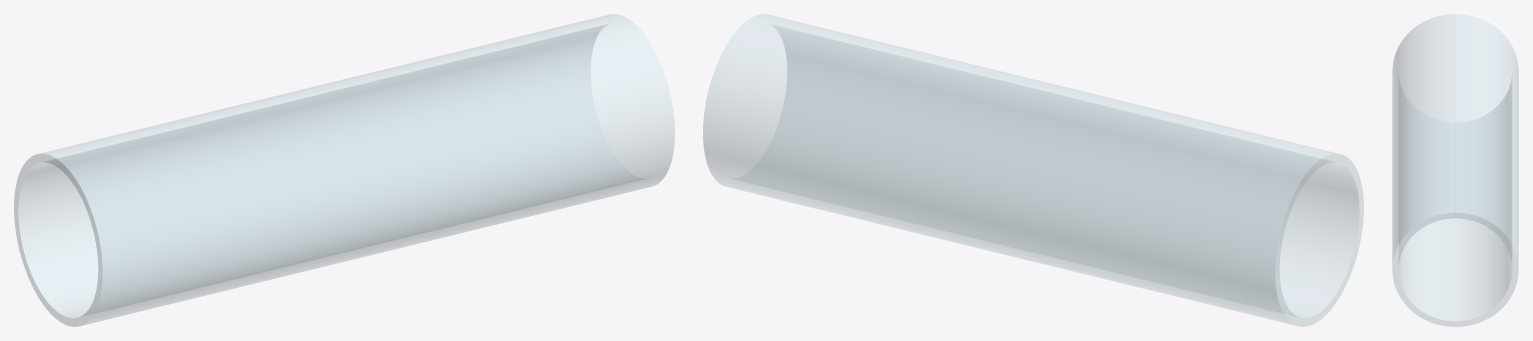
Rendered from tubo_p3.glb.
The picture shows the model from 3 angles, left to right: view 1: azimuth 30°, elevation 25°; view 2: azimuth 150°, elevation 25°; view 3: azimuth 270°, elevation 25°; orthographic projection. The views are drawn at different scales.
Parts seen in each view (by area): view 1: tubo_p3; view 2: tubo_p3; view 3: tubo_p3.
Boxes of the visible parts, bbox=[...] form: tubo_p3: bbox=[14, 14, 674, 326]; tubo_p3: bbox=[703, 14, 1363, 326]; tubo_p3: bbox=[1392, 14, 1518, 326].
Bounding box in the file's own units: 149 × 39.98 × 39.99.
